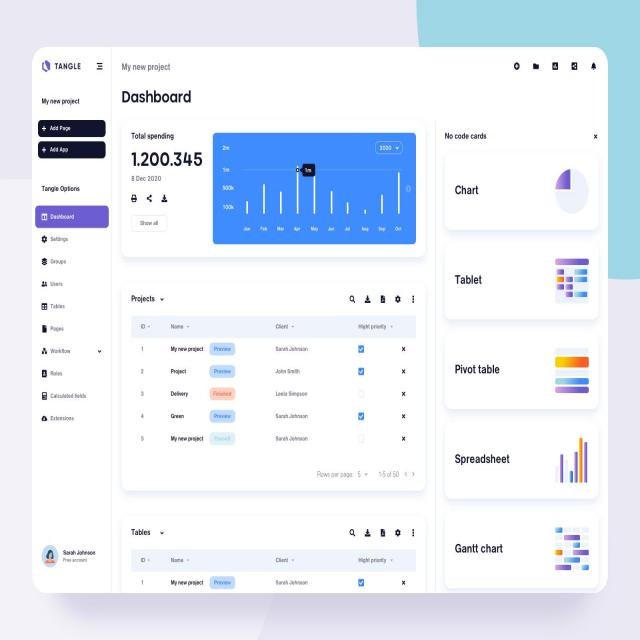button: (130, 214, 168, 233)
select: (128, 526, 169, 539)
